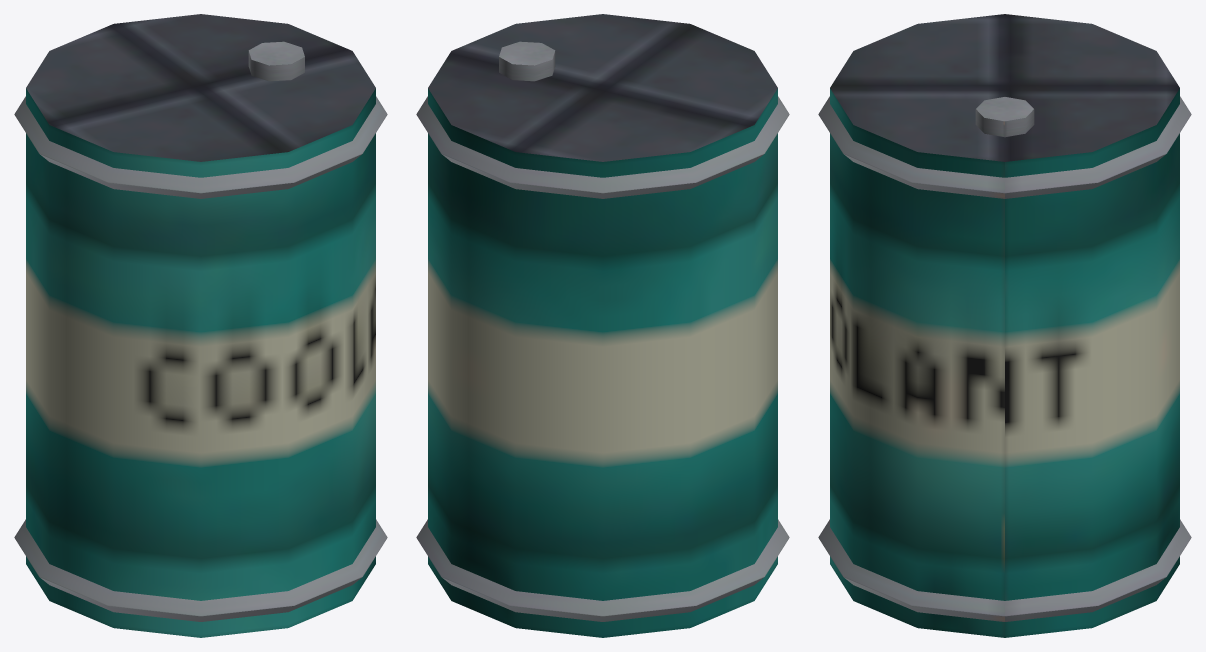
File: barrel.fbx
3 views of the same model, side by side, from view 1: azimuth 30°, elevation 25°; view 2: azimuth 150°, elevation 25°; view 3: azimuth 270°, elevation 25° (orthographic).
Parts seen in each view (by area): view 1: barrel; view 2: barrel; view 3: barrel.
Boxes of the visible parts, x1,y1,x2,y2 form: barrel: (14,14,387,637); barrel: (416,14,789,637); barrel: (818,14,1191,637).
Size of the model in its own units: 0.64 by 0.93 by 0.64.
